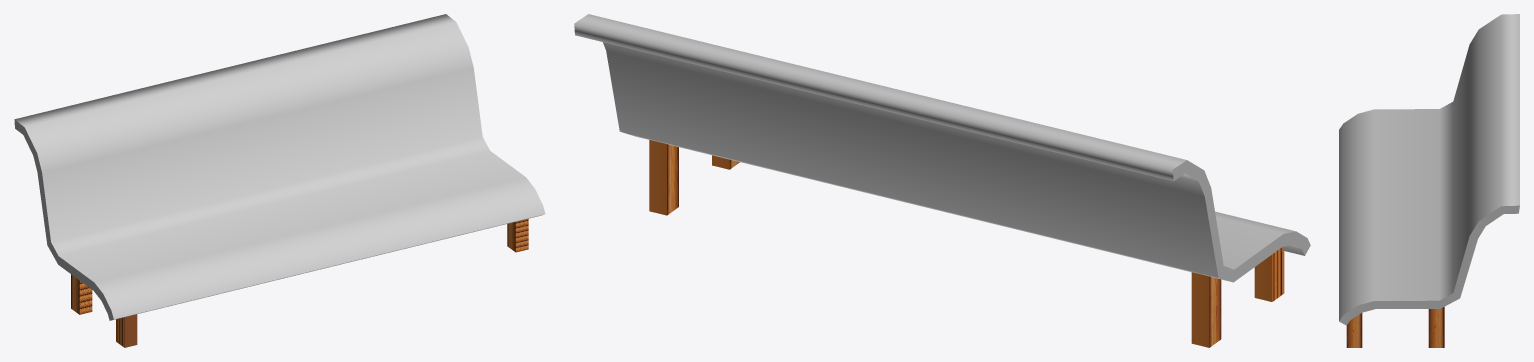
The model's file is bench.FBX.
3 views of the same model, side by side, from view 1: azimuth 30°, elevation 25°; view 2: azimuth 150°, elevation 25°; view 3: azimuth 270°, elevation 25° (orthographic). The views are drawn at different scales.
Visible parts, largest first — view 1: Line008, Box1675, Box021, Box1673; view 2: Line008, Box1675, Box1674, Box1673; view 3: Line008, Box1674, Box021.
Part boxes in pixels (left/top/right/bottom): Line008: left=14, top=14, right=545, bottom=320; Box1675: left=71, top=274, right=92, bottom=314; Box021: left=507, top=218, right=528, bottom=252; Box1673: left=116, top=314, right=137, bottom=347; Line008: left=574, top=14, right=1310, bottom=282; Box1675: left=1191, top=272, right=1221, bottom=347; Box1674: left=649, top=140, right=678, bottom=215; Box1673: left=1254, top=247, right=1284, bottom=301; Line008: left=1339, top=14, right=1519, bottom=325; Box1674: left=1428, top=307, right=1444, bottom=347; Box021: left=1346, top=313, right=1362, bottom=347.
Size of the model in its own units: 166 by 59.57 by 66.03.
